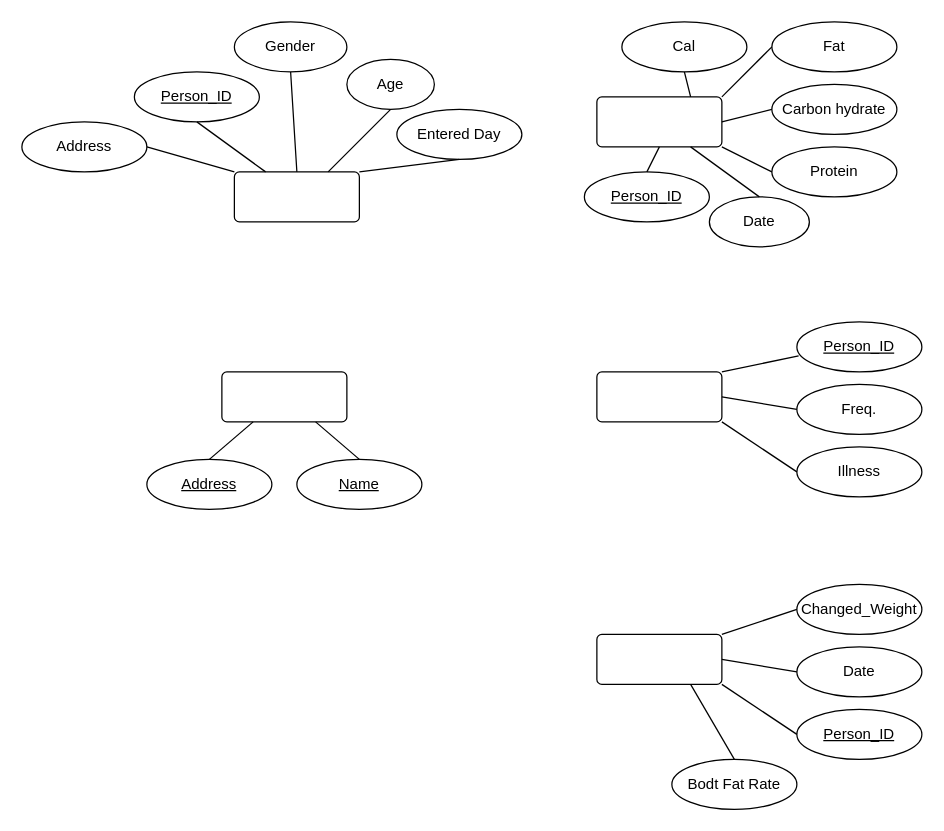
Image size: 944x831. Some labels were removed from this diagram. The shapes that lost their labels are listed below. From the top down, each one's centre as x and y in pixels, then its label:
the point at 659,121: Meals
the point at 296,196: People
the point at 284,396: Training House
the point at 659,396: Train
the point at 659,658: Fitness
